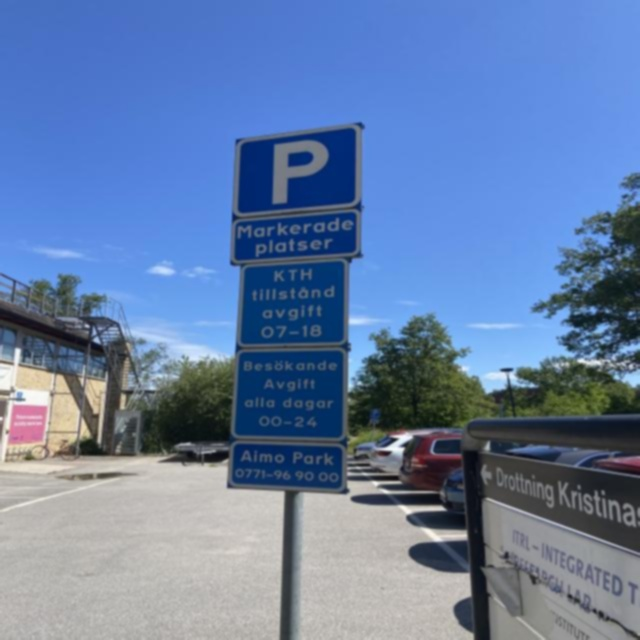P-skylt: (236, 126, 360, 212)
